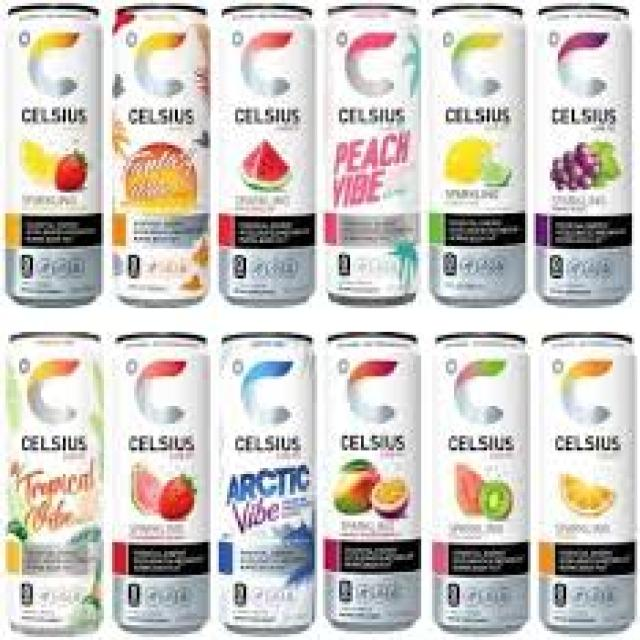Cans: (312, 329, 429, 634), (424, 326, 539, 634), (530, 323, 640, 634), (107, 329, 216, 640), (211, 323, 320, 634), (530, 3, 640, 308), (107, 3, 216, 308), (3, 329, 112, 634), (314, 3, 424, 305), (424, 3, 531, 308), (3, 3, 109, 308), (214, 6, 318, 305)
